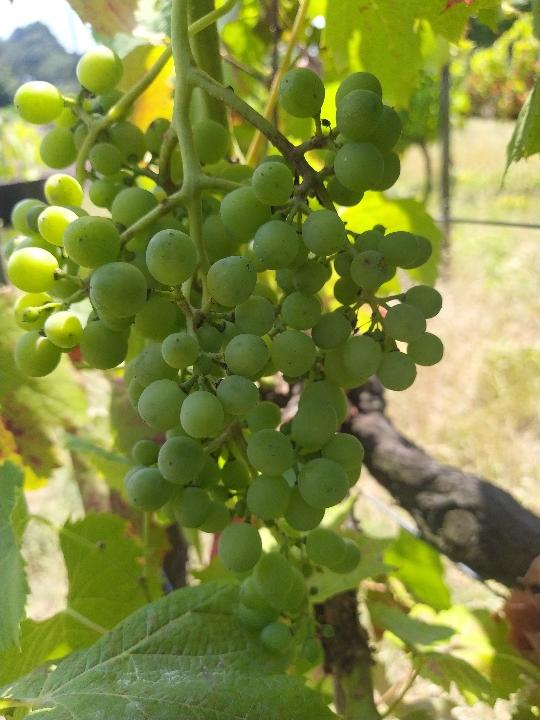grape: (4, 41, 448, 673)
